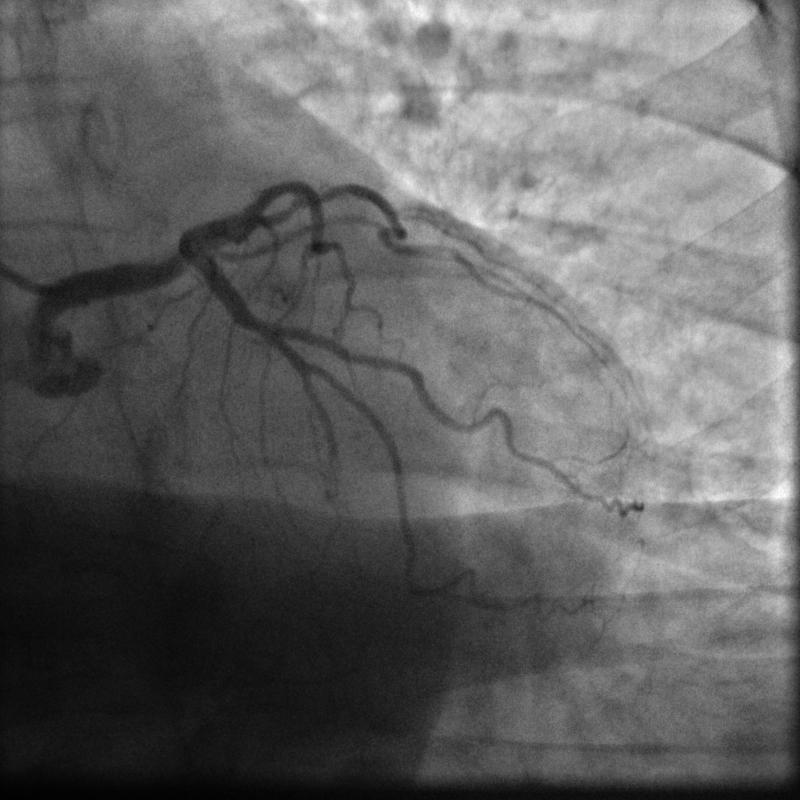Stenosis: (242, 297, 268, 349)
